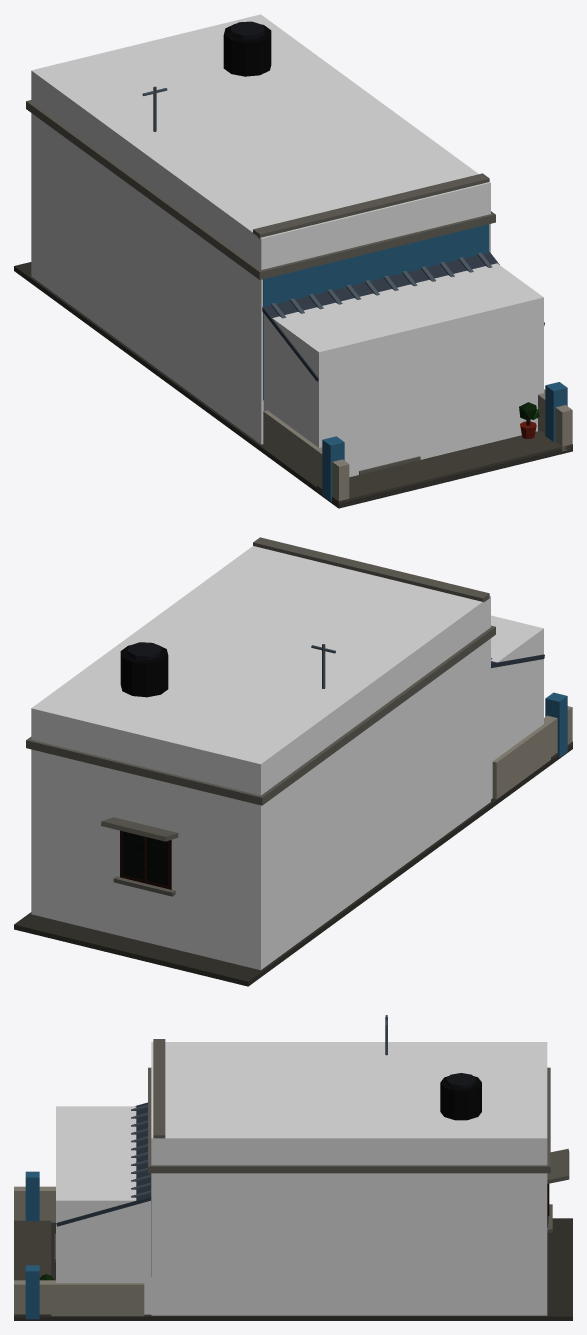
The model's file is CHN_036_tenement_1f.glb.
3 renders of one model, top to bottom at view 1: azimuth 30°, elevation 25°; view 2: azimuth 150°, elevation 25°; view 3: azimuth 270°, elevation 25°, orthographic. The views are drawn at different scales.
Parts seen in each view (by area): view 1: COL_Main, COL_Verandah, LOD0; view 2: COL_Main, LOD0, COL_Verandah; view 3: COL_Main, LOD0, COL_Verandah.
Part boxes in pixels (<box>): COL_Main: <box>31,14,490,444</box>; COL_Verandah: <box>263,263,543,477</box>; LOD0: <box>14,21,572,508</box>; COL_Main: <box>31,546,490,970</box>; LOD0: <box>14,537,572,986</box>; COL_Verandah: <box>491,615,543,799</box>; COL_Main: <box>151,1042,547,1315</box>; LOD0: <box>14,1015,572,1320</box>; COL_Verandah: <box>56,1106,151,1314</box>.
Size of what is drawn, in the model's own units: 5.06 by 5.2 by 12.
